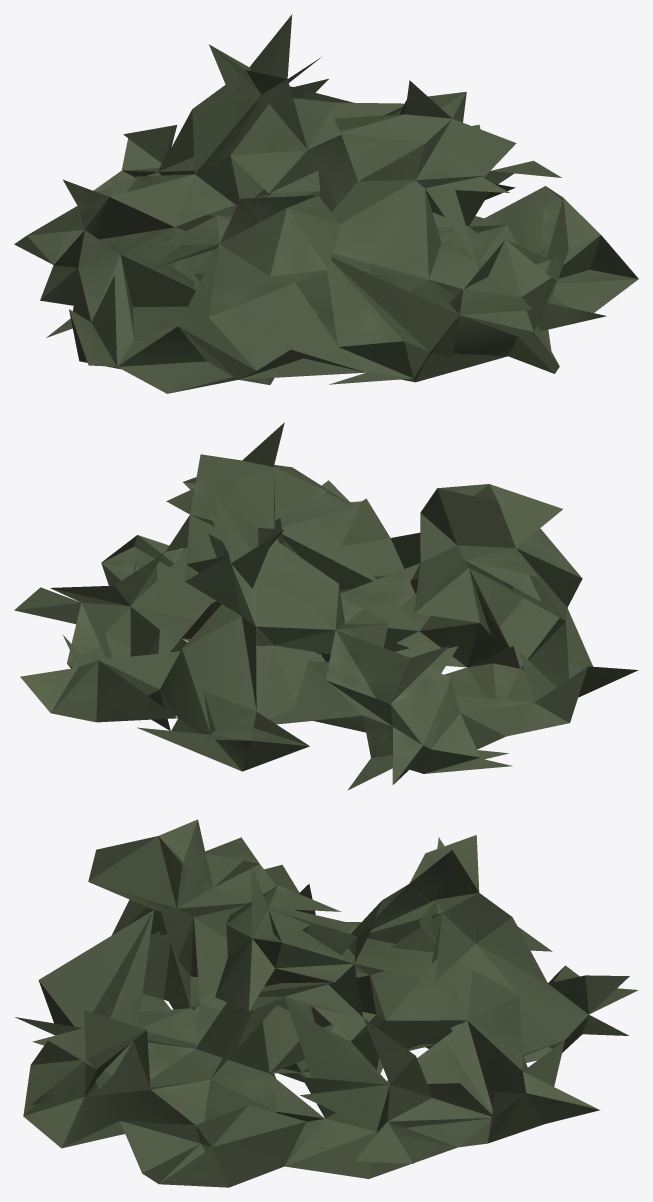
File: bush_a.glb
3 renders of one model, top to bottom at view 1: azimuth 30°, elevation 25°; view 2: azimuth 150°, elevation 25°; view 3: azimuth 270°, elevation 25°, orthographic. The views are drawn at different scales.
Bounding box in the file's own units: 1.73 × 0.7443 × 1.62.
1 material, 1 textured.
